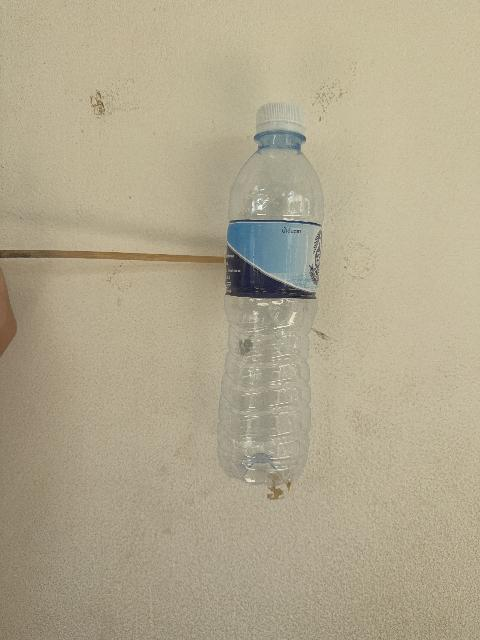bottle: (218, 103, 323, 486)
